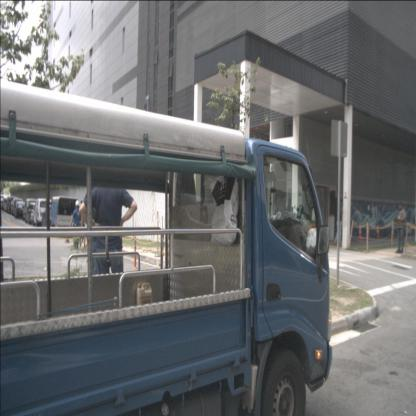cone: (132, 236, 138, 270), (357, 224, 363, 240), (375, 224, 380, 239), (366, 223, 370, 238)
